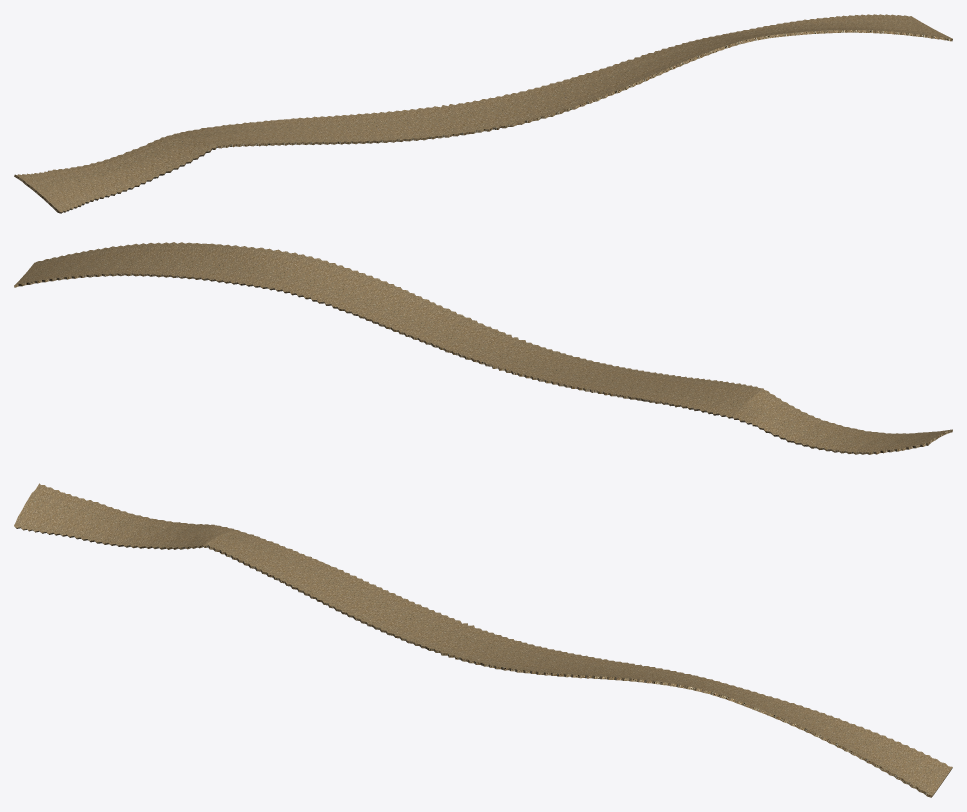
File: Level1B1Road.fbx
The picture shows the model from 3 angles, top to bottom: view 1: azimuth 30°, elevation 25°; view 2: azimuth 150°, elevation 25°; view 3: azimuth 330°, elevation 25°; orthographic projection.
Visible parts, largest first — view 1: Plane; view 2: Plane; view 3: Plane.
Boxes of the visible parts, x1=… form: Plane: x1=14, y1=14, x2=952, y2=213; Plane: x1=14, y1=242, x2=952, y2=454; Plane: x1=14, y1=483, x2=952, y2=797.
Bounding box in the file's own units: 6184 × 435 × 706.
